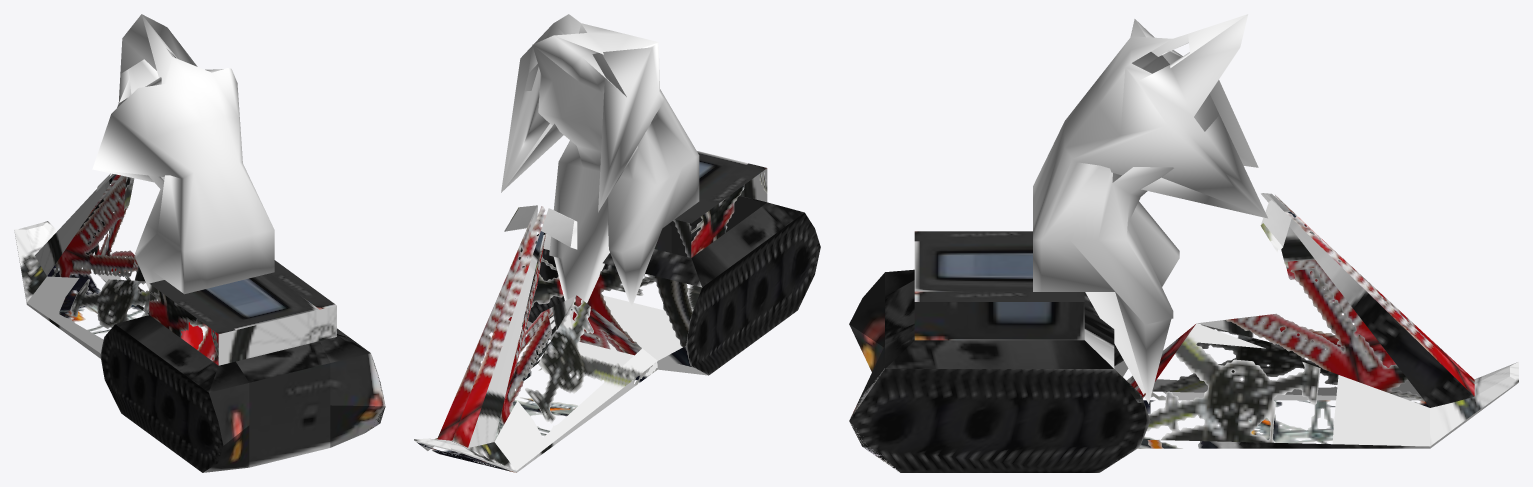
The model's file is skidoo.obj.
3 renders of one model, left to right at view 1: azimuth 30°, elevation 25°; view 2: azimuth 150°, elevation 25°; view 3: azimuth 270°, elevation 25°, orthographic. The views are drawn at different scales.
Visible parts, largest first — view 1: Cube, Cube.001_Cube.003; view 2: Cube, Cube.001_Cube.003; view 3: Cube, Cube.001_Cube.003.
Boxes of the visible parts, left/top/right/bottom form: Cube: left=14, top=173, right=385, bottom=472; Cube.001_Cube.003: left=92, top=14, right=274, bottom=336; Cube: left=414, top=151, right=820, bottom=472; Cube.001_Cube.003: left=501, top=14, right=699, bottom=327; Cube: left=849, top=193, right=1518, bottom=472; Cube.001_Cube.003: left=1033, top=14, right=1267, bottom=403.
Bounding box in the file's own units: 2.7 × 5.33 × 7.88.
Materials: 2 (2 with a texture image).
